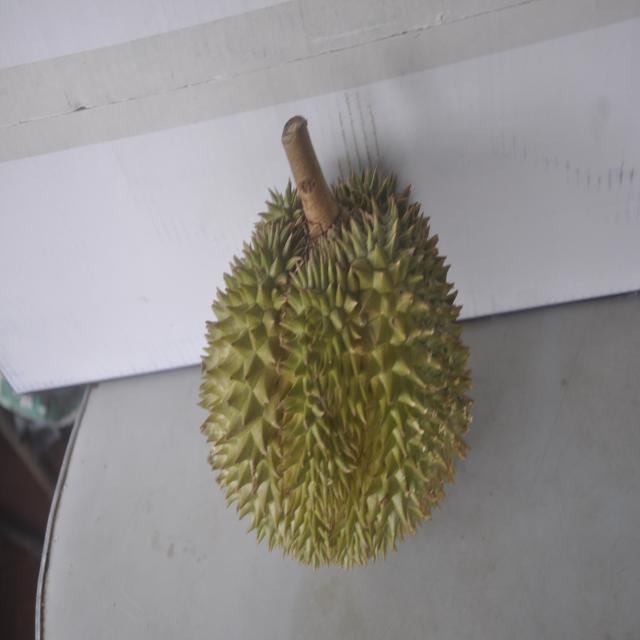mature: (197, 126, 469, 570)
